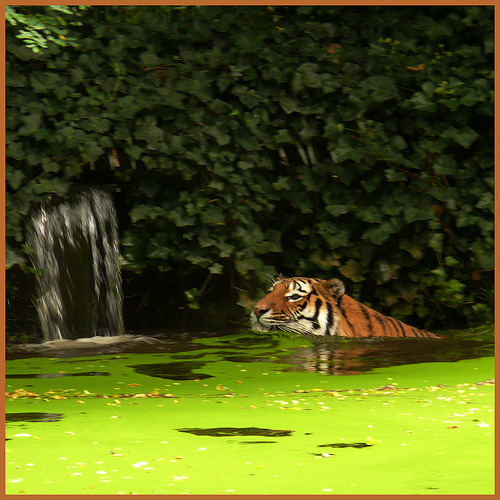Tigre: (244, 266, 410, 360)
